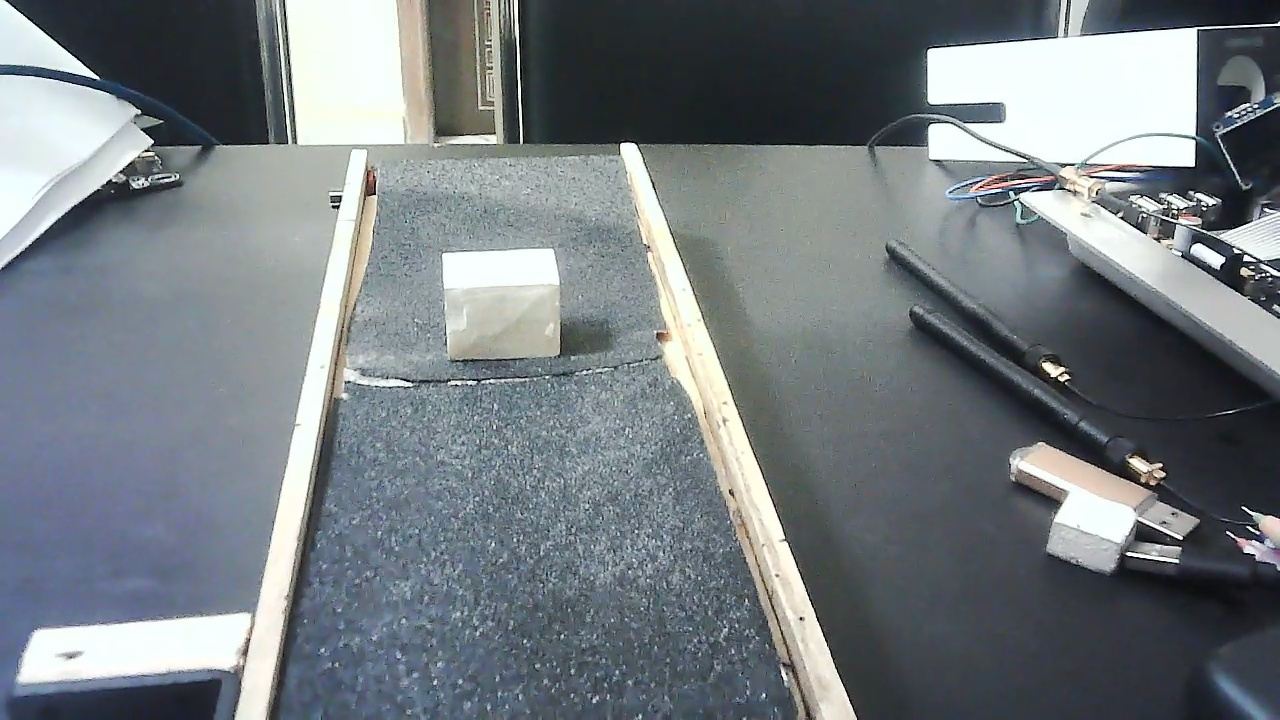Medium: (442, 243, 563, 364)
